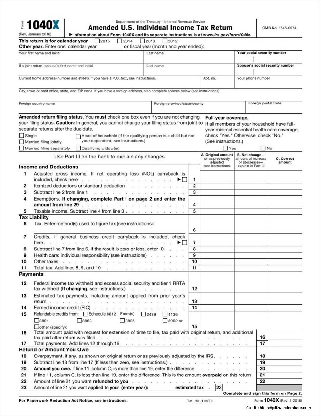checkbox: (161, 37, 169, 44), (140, 310, 148, 317), (161, 310, 169, 317), (161, 317, 169, 324), (94, 37, 101, 44), (139, 37, 146, 44), (222, 144, 229, 151), (18, 132, 25, 139), (18, 138, 25, 145), (18, 144, 25, 151), (181, 176, 188, 183), (181, 239, 188, 246), (82, 310, 89, 317), (33, 317, 40, 324), (76, 317, 83, 324), (116, 38, 123, 44), (260, 145, 267, 151), (75, 134, 82, 140), (75, 145, 82, 151), (33, 324, 40, 330), (119, 317, 126, 323)
textbox: (16, 86, 305, 103), (17, 74, 202, 90), (17, 100, 153, 115), (18, 61, 145, 76), (17, 50, 145, 64), (150, 100, 248, 115), (142, 62, 237, 77), (142, 50, 236, 64), (232, 49, 304, 65), (233, 61, 304, 77), (234, 74, 305, 90), (244, 99, 306, 115), (267, 269, 304, 294), (267, 309, 307, 332), (199, 269, 237, 293), (232, 270, 270, 294), (199, 213, 237, 235), (233, 213, 271, 235), (267, 212, 305, 234), (198, 309, 237, 330), (232, 309, 271, 330), (200, 73, 236, 91), (233, 168, 270, 185), (199, 231, 236, 248), (233, 231, 270, 248), (198, 290, 236, 306), (232, 290, 270, 306), (199, 168, 236, 184), (267, 169, 304, 185), (199, 194, 236, 210), (233, 193, 270, 209), (267, 193, 304, 209), (267, 232, 304, 248), (267, 291, 305, 306), (267, 346, 306, 360), (267, 328, 305, 342), (267, 187, 305, 197), (199, 303, 237, 313), (232, 303, 270, 313), (266, 303, 304, 313), (199, 181, 236, 191), (233, 181, 270, 191), (267, 181, 304, 191), (234, 187, 271, 197), (199, 187, 236, 197), (199, 206, 236, 216), (233, 206, 270, 216), (267, 206, 304, 216), (198, 244, 235, 254), (233, 244, 270, 254), (267, 244, 304, 254), (267, 250, 304, 260), (233, 250, 270, 260), (199, 250, 236, 260), (233, 263, 270, 273), (199, 263, 236, 273), (267, 339, 306, 348), (267, 370, 306, 379), (267, 358, 305, 367), (267, 364, 305, 373), (267, 376, 305, 385), (199, 257, 236, 266), (233, 257, 270, 266), (267, 257, 304, 266), (267, 263, 304, 272)
textline: (32, 226, 187, 234), (67, 322, 186, 330), (204, 43, 306, 51), (222, 384, 258, 392), (148, 383, 176, 392), (97, 44, 124, 52)
